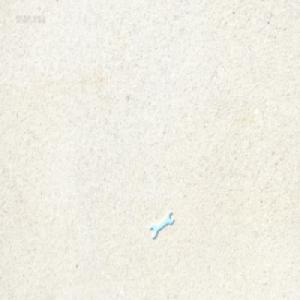Wrench: (150, 212, 174, 241)
